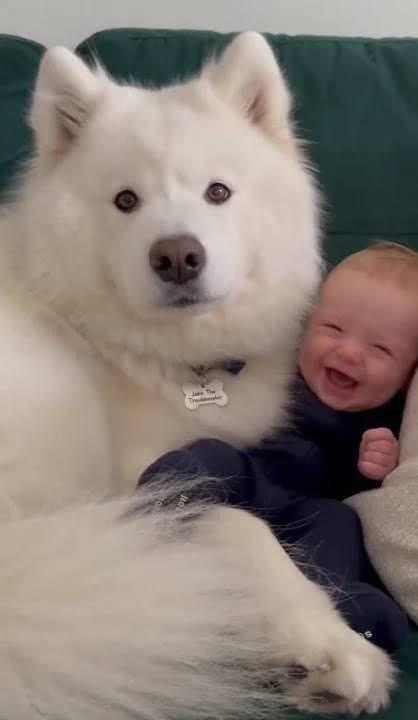adult_dog: (0, 32, 400, 720)
non-dog: (129, 246, 418, 652)
